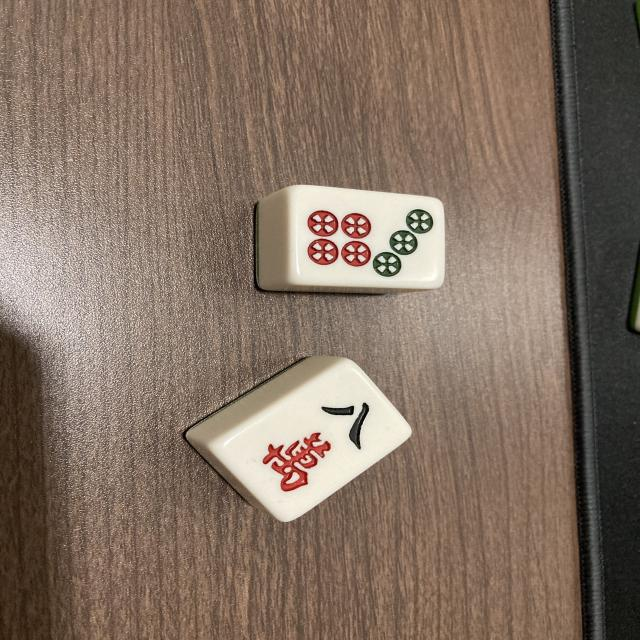m8: (214, 356, 410, 524)
t7: (290, 187, 443, 290)
